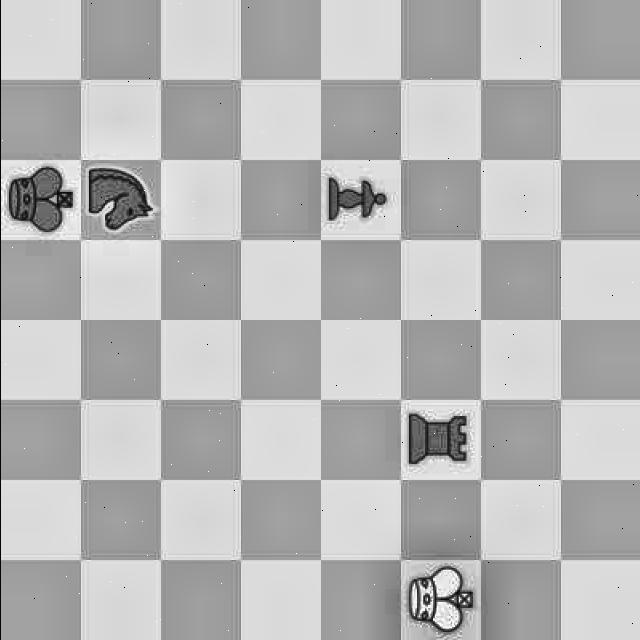Black Knight: (81, 164, 159, 234)
black king: (0, 164, 80, 237)
black pawn: (318, 170, 388, 222)
black rook: (403, 403, 474, 469)
white king: (402, 564, 480, 631)
